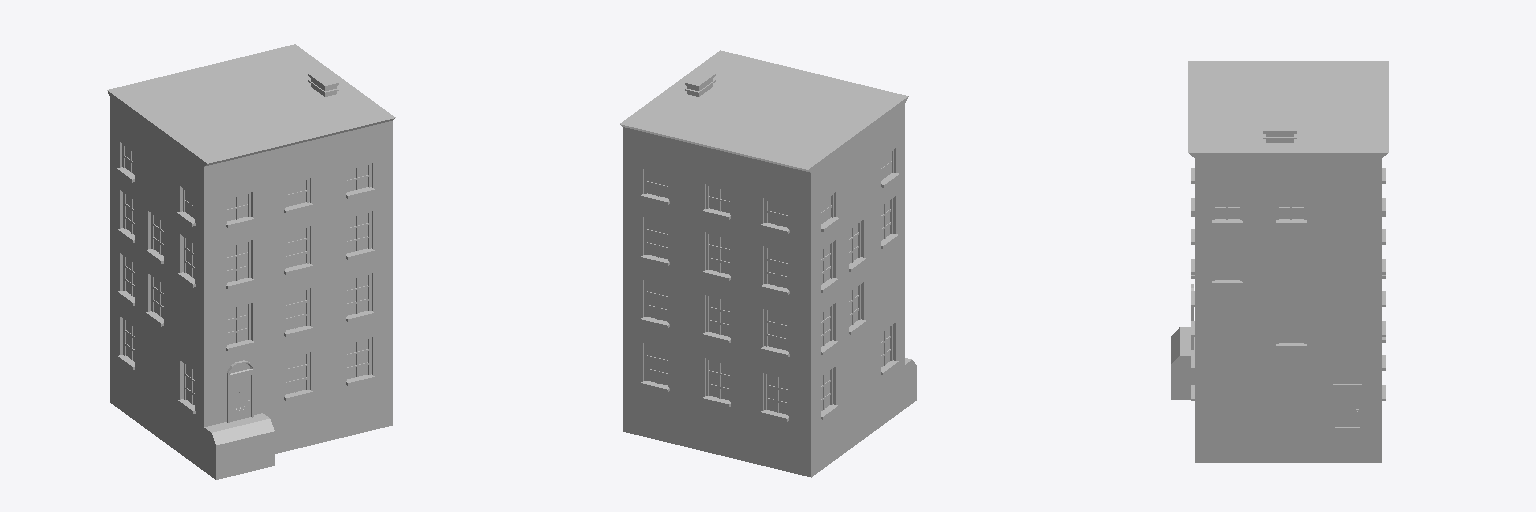
Rendered from EverythingLibrary_Buildings_GeorgianHome2.obj.
3 views of the same model, side by side, from view 1: azimuth 30°, elevation 25°; view 2: azimuth 150°, elevation 25°; view 3: azimuth 270°, elevation 25° (orthographic).
Visible parts, largest first — view 1: base.104_Mesh.299, windowRefl.074_Mesh.297; view 2: base.104_Mesh.299, windowRefl.074_Mesh.297; view 3: base.104_Mesh.299, windowRefl.074_Mesh.297.
Part boxes in pixels (x1,y1,x2,y2): base.104_Mesh.299: (107, 44, 395, 479); windowRefl.074_Mesh.297: (125, 147, 367, 404); base.104_Mesh.299: (620, 50, 916, 477); windowRefl.074_Mesh.297: (647, 152, 891, 414); base.104_Mesh.299: (1171, 61, 1388, 462); windowRefl.074_Mesh.297: (1215, 197, 1303, 342).
Size of the model in its own units: 11.2 by 17.64 by 10.83.